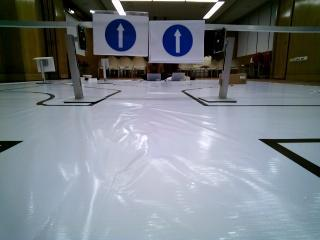straight: (148, 19, 203, 65), (91, 12, 149, 55)
